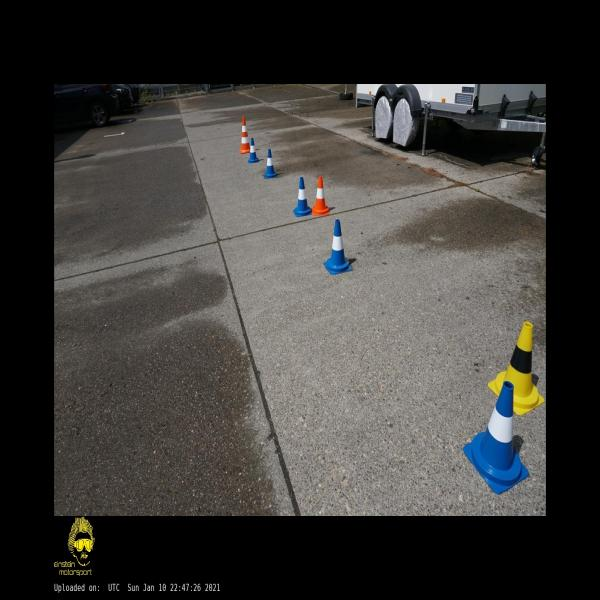blue_cone: (463, 381, 529, 494), (324, 220, 352, 274), (293, 177, 311, 217), (264, 150, 277, 178), (248, 138, 259, 163)
large_orange_cone: (240, 116, 250, 153)
orange_cone: (311, 176, 329, 215)
yellow_cone: (488, 322, 544, 415)
